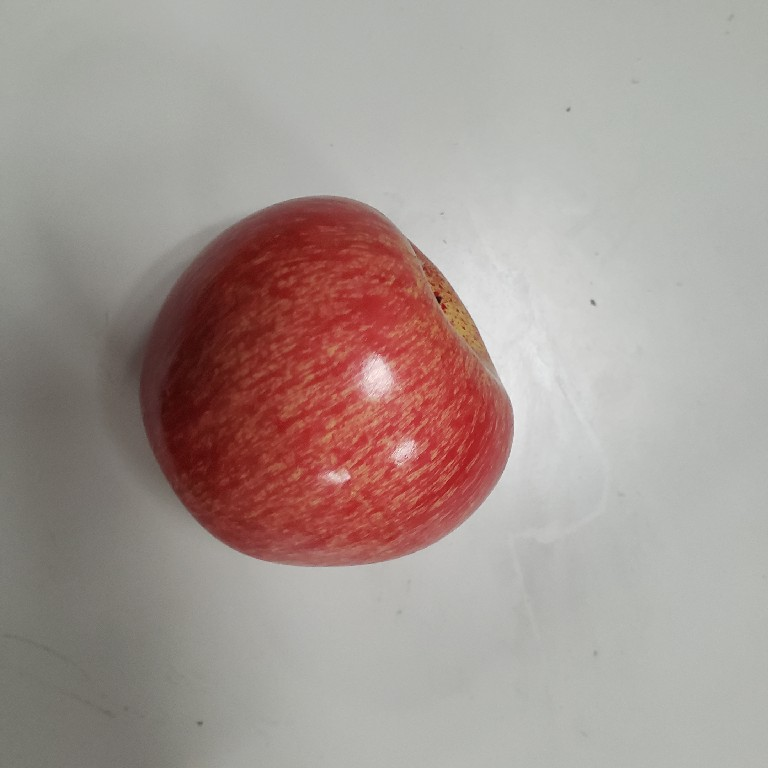fruit_apple: (130, 186, 520, 574)
